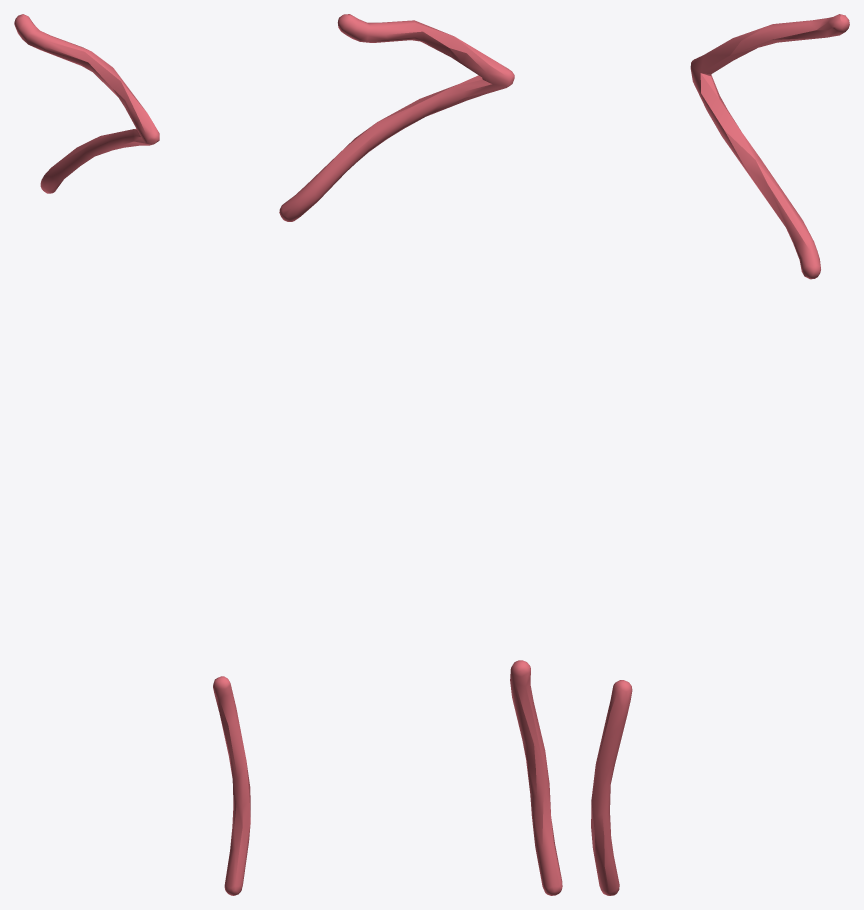
File: fma70487_fj3460.glb
3 views of the same model, side by side, from view 1: azimuth 90°, elevation 25°; view 2: azimuth 150°, elevation 25°; view 3: azimuth 270°, elevation 25° (orthographic). The views are drawn at different scales.
Visible parts, largest first — view 1: FMA70487_FJ3460; view 2: FMA70487_FJ3460; view 3: FMA70487_FJ3460.
Part boxes in pixels (x1=…): FMA70487_FJ3460: x1=14, y1=14, x2=250, y2=895; FMA70487_FJ3460: x1=279, y1=14, x2=562, y2=895; FMA70487_FJ3460: x1=591, y1=14, x2=849, y2=895.
Bounding box in the file's own units: 0.00966 × 0.0492 × 0.0125.
